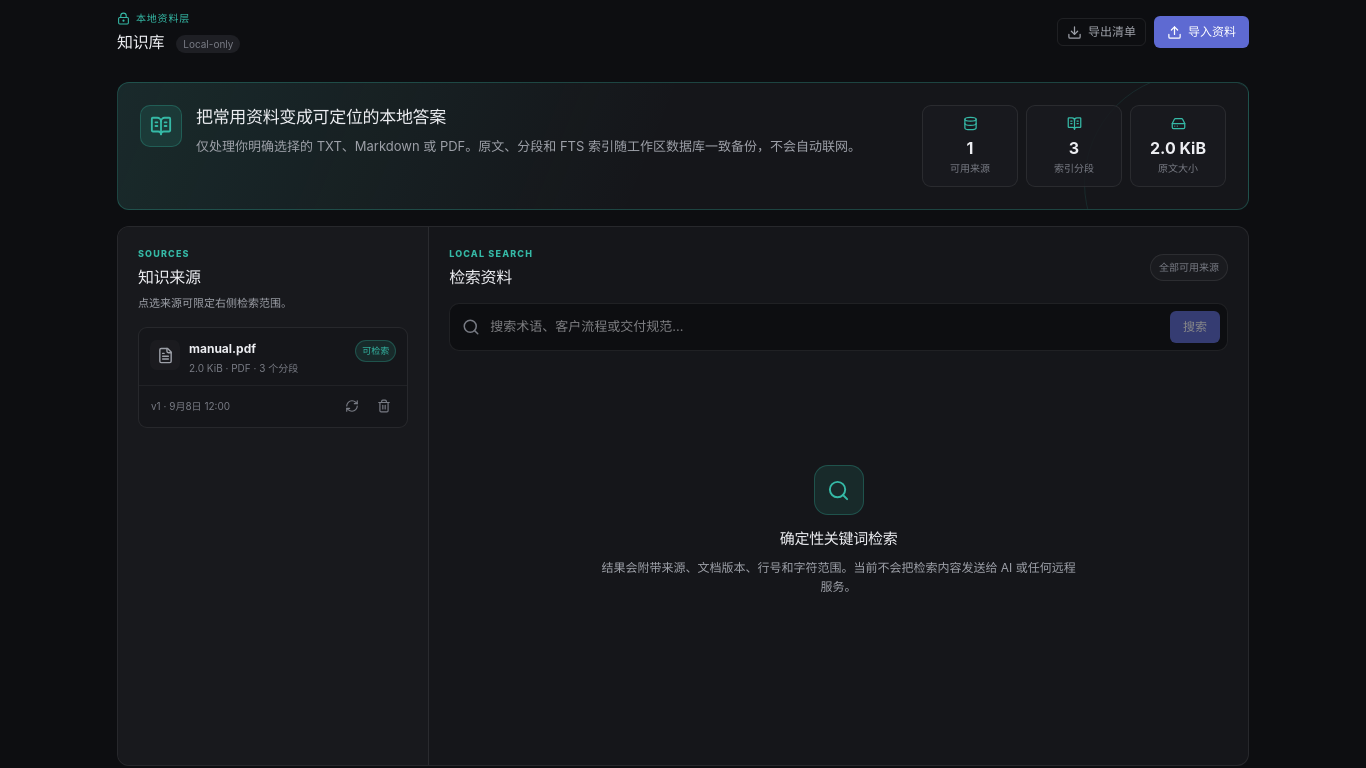
KnowledgeBasePage › shows page locations and a type label for pdf sources
The image size is (1366, 768).
Expected: the text "manual.pdf" is shown, x1=189 y1=341 x2=256 y2=356
Expected: the text "2.0 KiB · PDF · 3 个分段" is shown, x1=189 y1=362 x2=298 y2=374
Step 1. Type "安装" into the field named "搜索知识库" → (825, 327), box x1=490 y1=317 x2=1160 y2=336
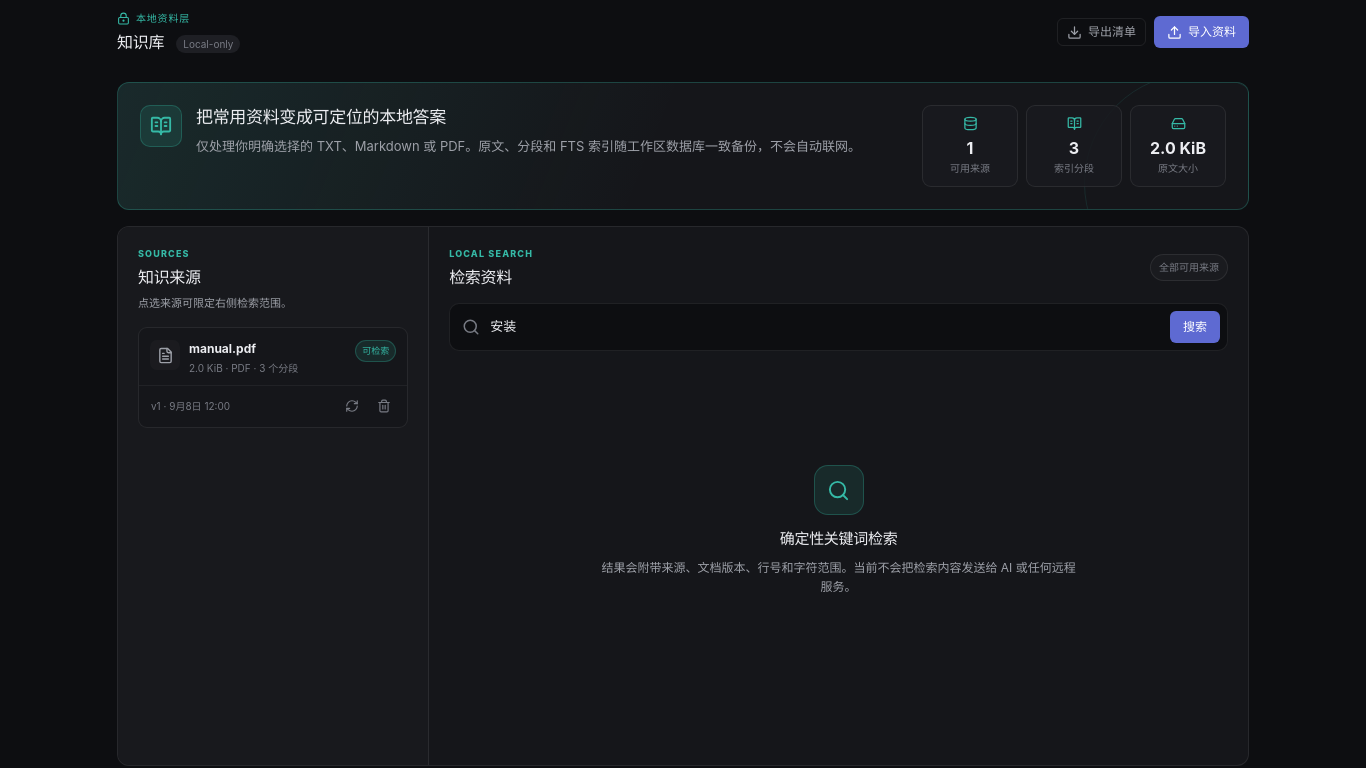
Step 2. Click the button "搜索" → (1195, 326), box x1=1170 y1=310 x2=1220 y2=342
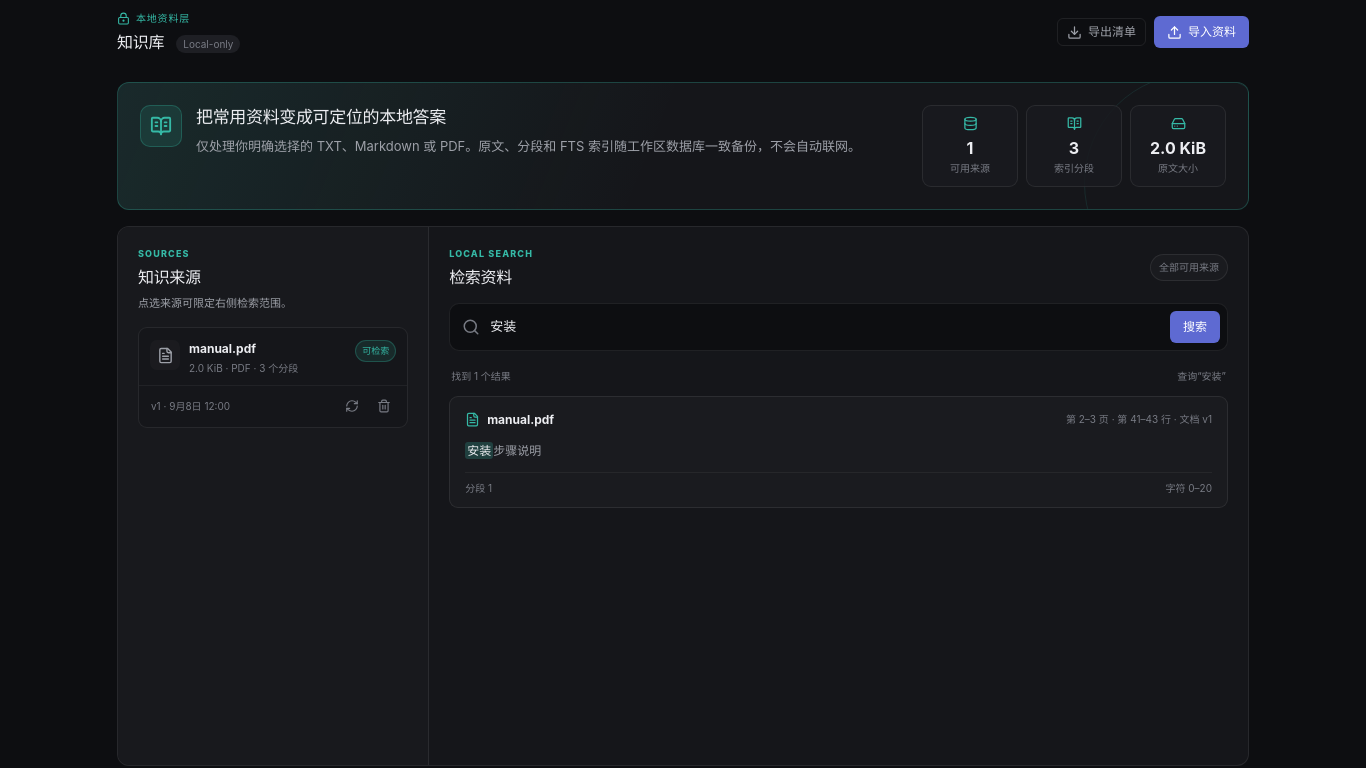
Expected: the text "第 2–3 页 · 第 41–43 行 · 文档 v1" is shown, x1=1066 y1=412 x2=1212 y2=427
